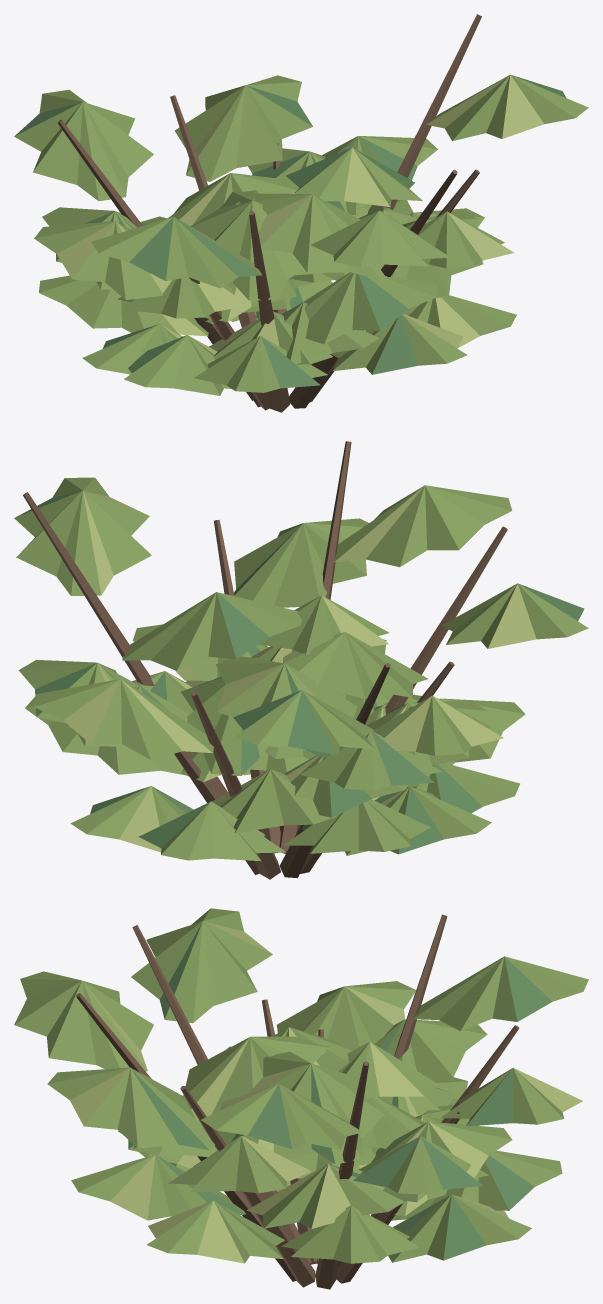
Rendered from ForestShrub.fbx.
3 renders of one model, top to bottom at view 1: azimuth 30°, elevation 25°; view 2: azimuth 150°, elevation 25°; view 3: azimuth 270°, elevation 25°, orthographic. The views are drawn at different scales.
Visible parts, largest first — view 1: ForestShrubVisual; view 2: ForestShrubVisual; view 3: ForestShrubVisual.
Boxes of the visible parts, x1=… form: ForestShrubVisual: x1=14, y1=14, x2=588, y2=412; ForestShrubVisual: x1=14, y1=441, x2=588, y2=879; ForestShrubVisual: x1=14, y1=908, x2=588, y2=1289.
Bounding box in the file's own units: 1.37 × 0.8249 × 1.33.
